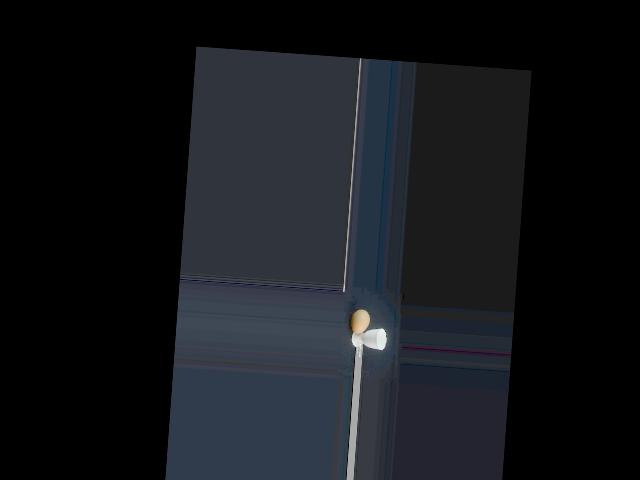egg: (351, 309, 370, 334)
